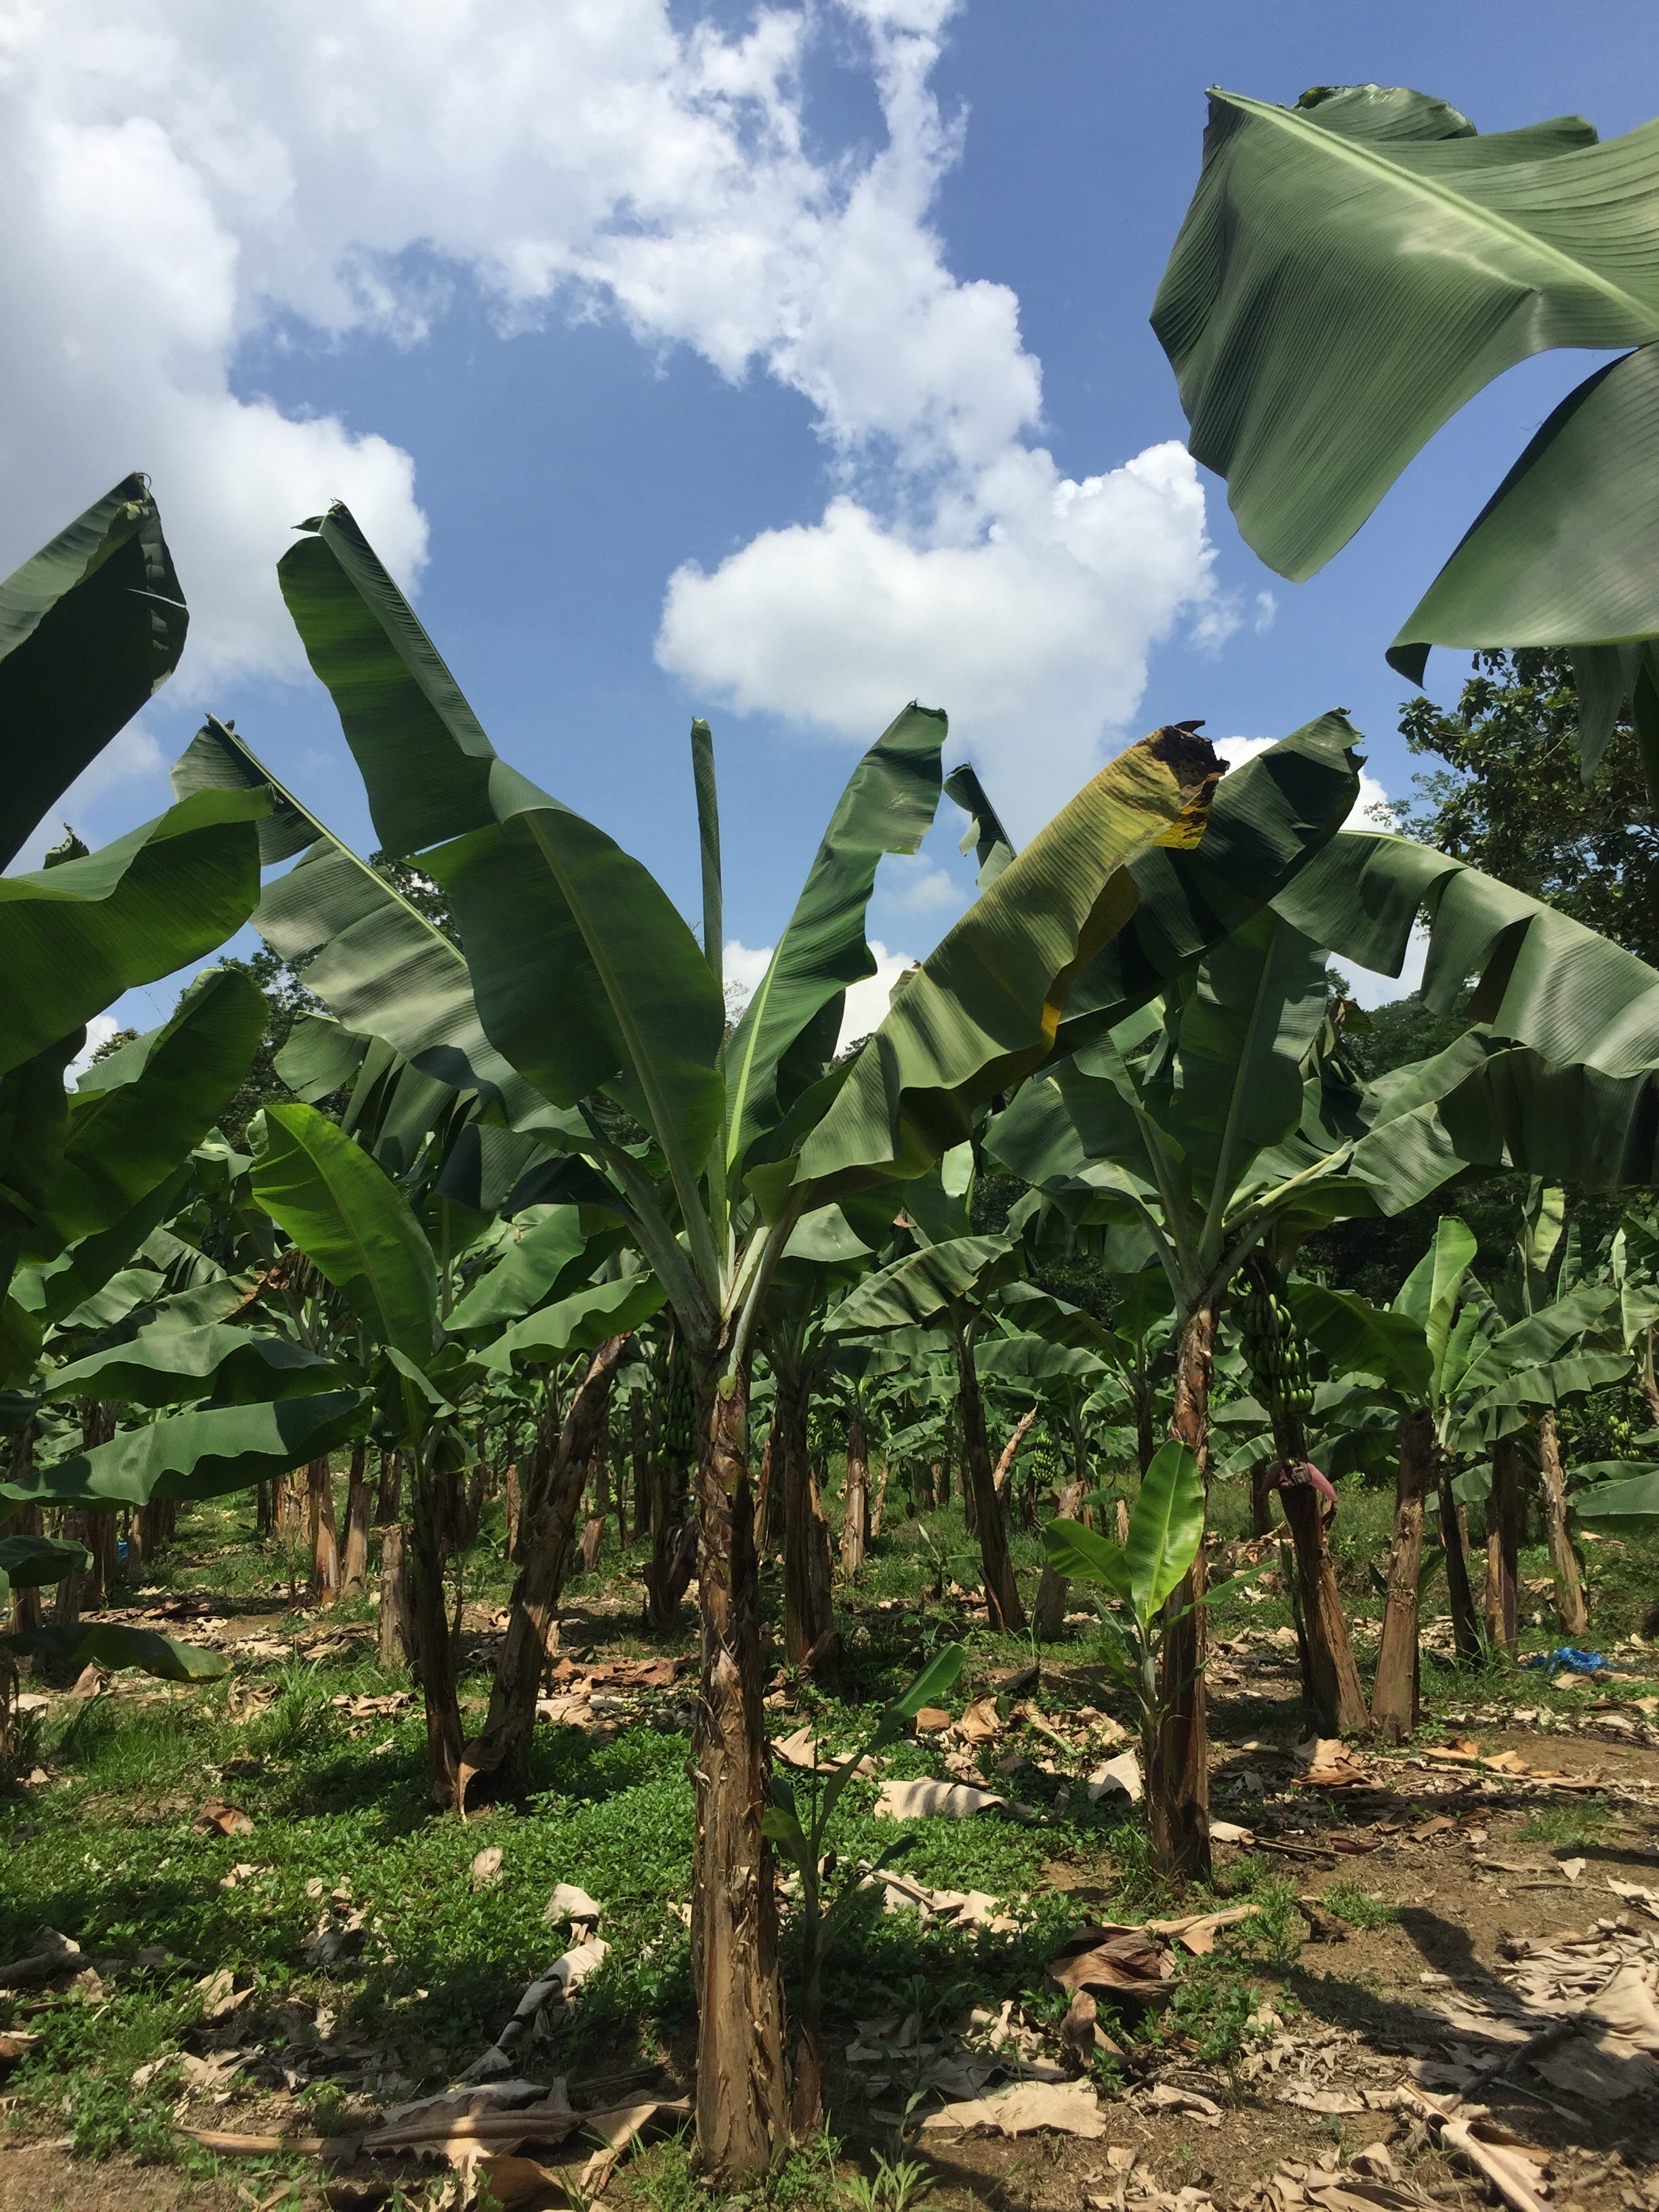candleleafs: (690, 716, 725, 1033)
